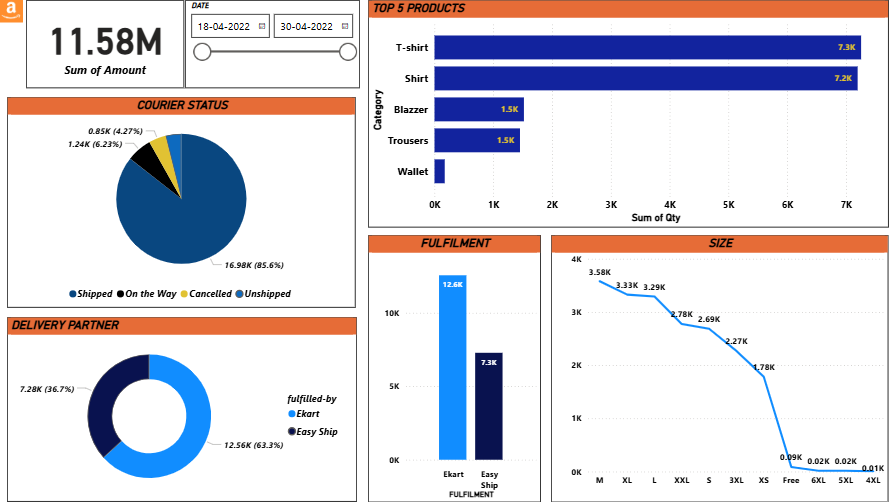

What the dashboard file says about the page in this screenshot:
{"tool":"powerbi","page":{"name":"Overview","canvas":[1280,720],"ordinal":0},"visuals":[{"type":"image","box":[0,0,44,35],"z":0},{"type":"card","fields":{"Values":["Sum(Amazon Sale Report.Amount)"]},"box":[44.1,2.9,226.3,126.4],"z":1000},{"type":"slicer","fields":{"Values":["Amazon Sale Report.Date"]},"box":[271.8,2.9,249.8,126.4],"z":2000},{"type":"barChart","title":"TOP 5 PRODUCTS","fields":{"Category":["Amazon Sale Report.Category"],"Y":["Sum(Amazon Sale Report.Qty)"]},"box":[533.4,2.9,743.5,324.7],"z":3000},{"type":"pieChart","title":" COURIER STATUS","fields":{"Category":["Amazon Sale Report.Courier Status"],"Y":["CountNonNull(Amazon Sale Report.Courier Status)"]},"box":[17.6,141.1,498.1,301.2],"z":4000},{"type":"donutChart","title":"DELIVERY PARTNER","fields":{"Category":["Amazon Sale Report.fulfilled-by"],"Y":["CountNonNull(Amazon Sale Report.fulfilled-by)"]},"box":[17.6,455.5,499.6,264.5],"z":5000},{"type":"columnChart","title":"FULFILMENT","fields":{"Category":["Amazon Sale Report.fulfilled-by"],"Y":["CountNonNull(Amazon Sale Report.fulfilled-by)"]},"box":[533.4,338,246.9,382],"z":6000},{"type":"lineChart","title":"SIZE ","fields":{"Category":["Amazon Sale Report.Size"],"Y":["CountNonNull(Amazon Sale Report.Size)"]},"box":[794.9,338,482,382],"z":7000}]}

Visuals, with their boxes in screenshot pixels (x1, y1, x2, y2), scaled from the page's 1280x720 canvas onto the 889x502 screenshot:
image: bbox=[0, 0, 31, 24]
card - Sum(Amazon Sale Report.Amount): bbox=[31, 2, 188, 90]
slicer - Amazon Sale Report.Date: bbox=[189, 2, 362, 90]
"TOP 5 PRODUCTS" barChart: bbox=[370, 2, 887, 228]
" COURIER STATUS" pieChart: bbox=[12, 98, 358, 308]
"DELIVERY PARTNER" donutChart: bbox=[12, 318, 359, 501]
"FULFILMENT" columnChart: bbox=[370, 236, 542, 501]
"SIZE " lineChart: bbox=[552, 236, 887, 501]
